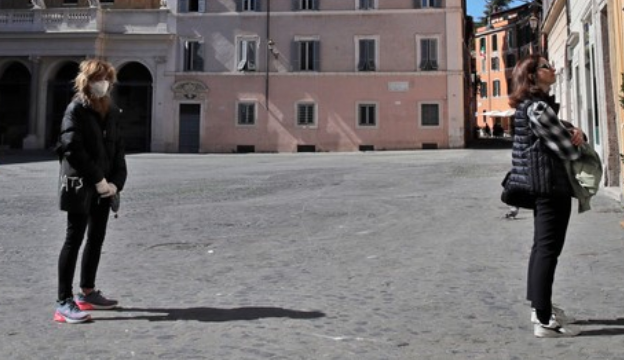Good: (52, 53, 598, 337)
